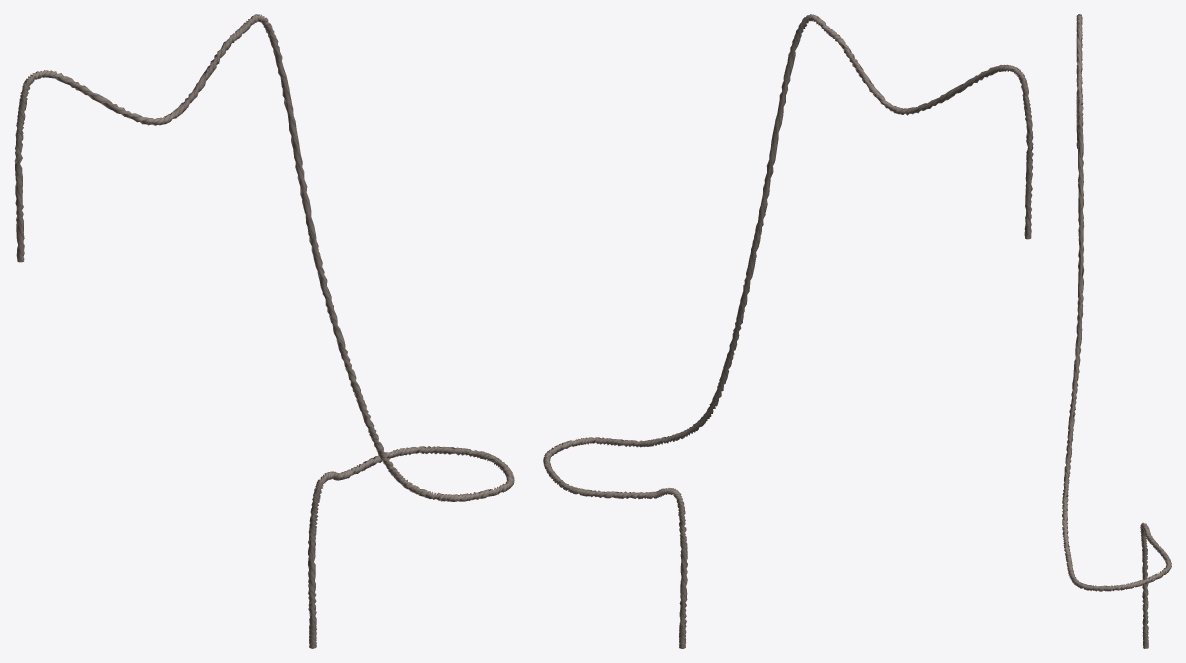
The model's file is SM_RopeSplineMesh_Splines_26.fbx.
3 views of the same model, side by side, from view 1: azimuth 30°, elevation 25°; view 2: azimuth 150°, elevation 25°; view 3: azimuth 270°, elevation 25° (orthographic). The views are drawn at different scales.
Parts seen in each view (by area): view 1: SM_RopeSplineMesh_Splines_26; view 2: SM_RopeSplineMesh_Splines_26; view 3: SM_RopeSplineMesh_Splines_26.
Boxes of the visible parts, x1=… form: SM_RopeSplineMesh_Splines_26: x1=14, y1=14, x2=514, y2=648; SM_RopeSplineMesh_Splines_26: x1=543, y1=14, x2=1033, y2=648; SM_RopeSplineMesh_Splines_26: x1=1062, y1=14, x2=1171, y2=648.
Size of the model in its own units: 181 by 44.98 by 234.
